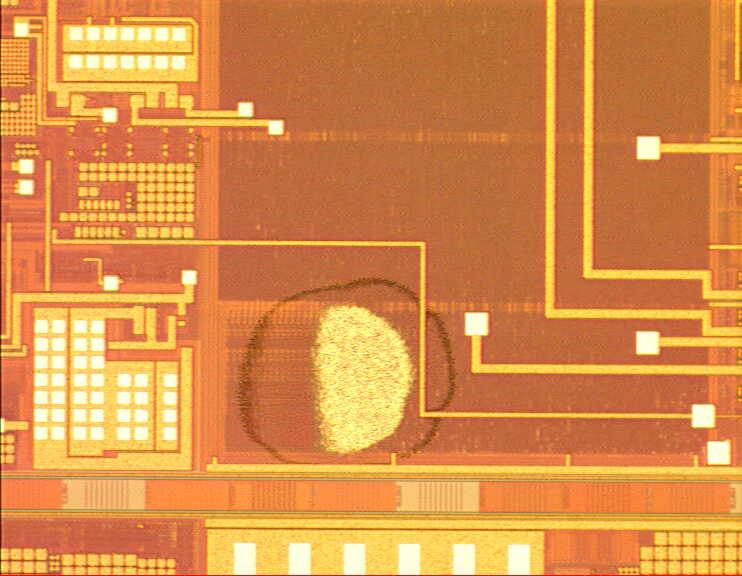BLOCK ETCH: (237, 276, 464, 472)
